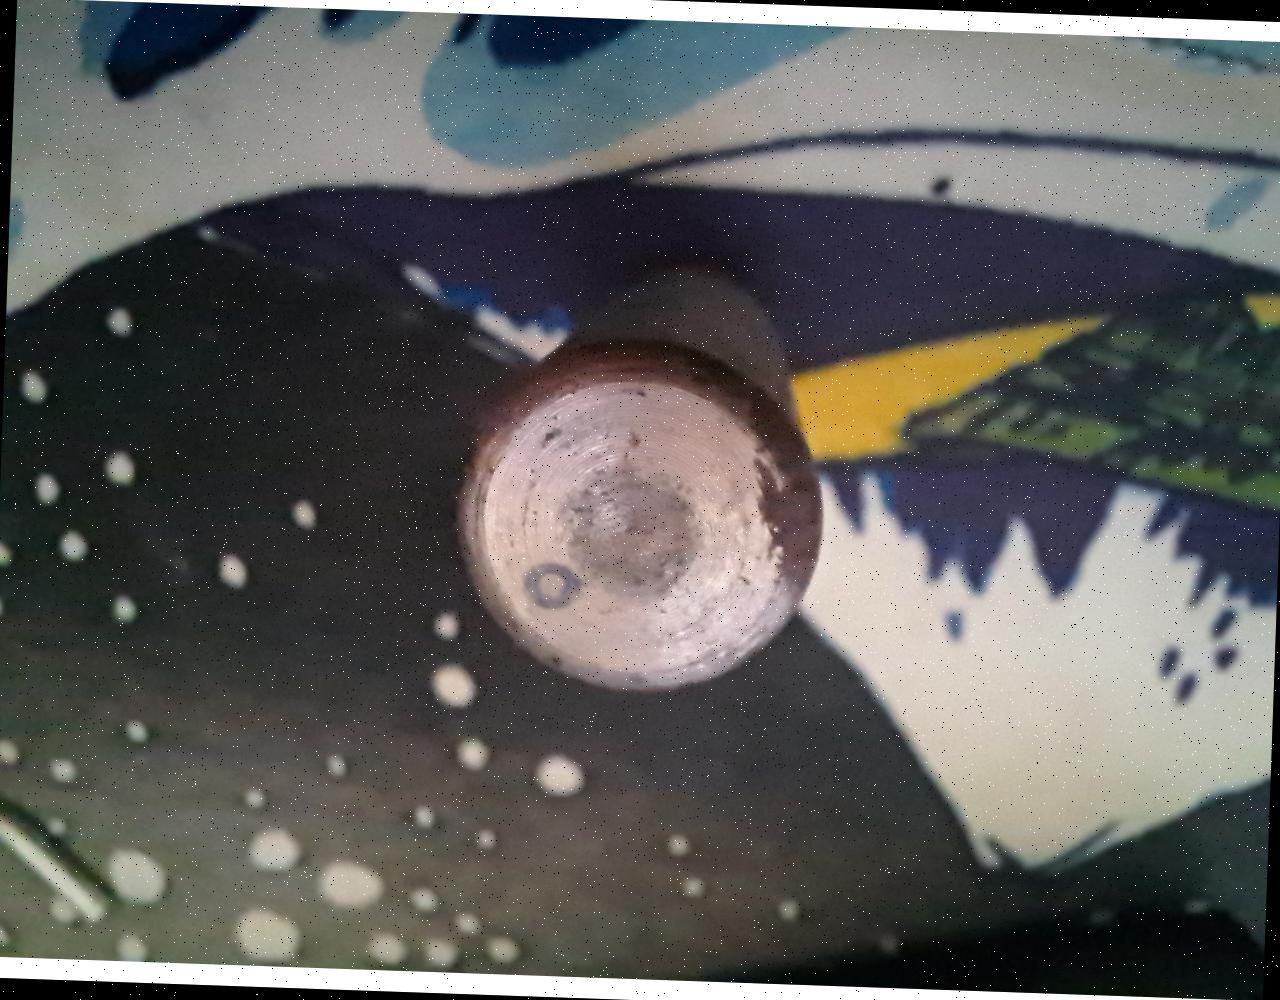defect: (518, 563, 581, 612)
planson: (455, 268, 818, 696)
